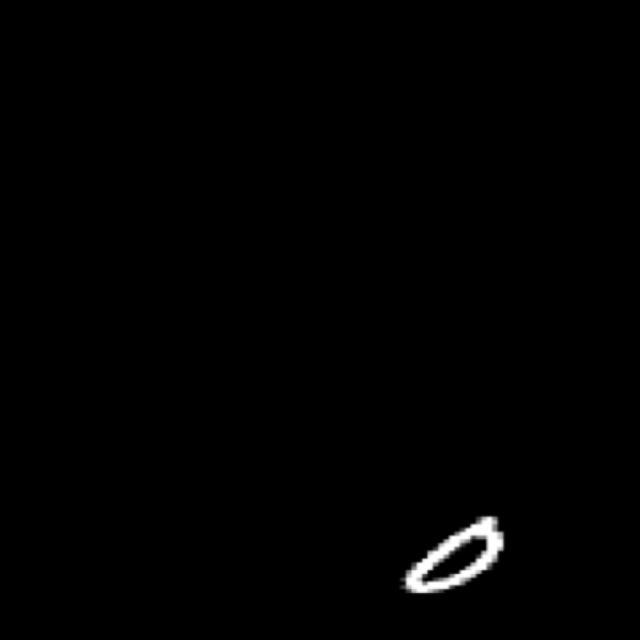zero -0-: (379, 496, 528, 613)
